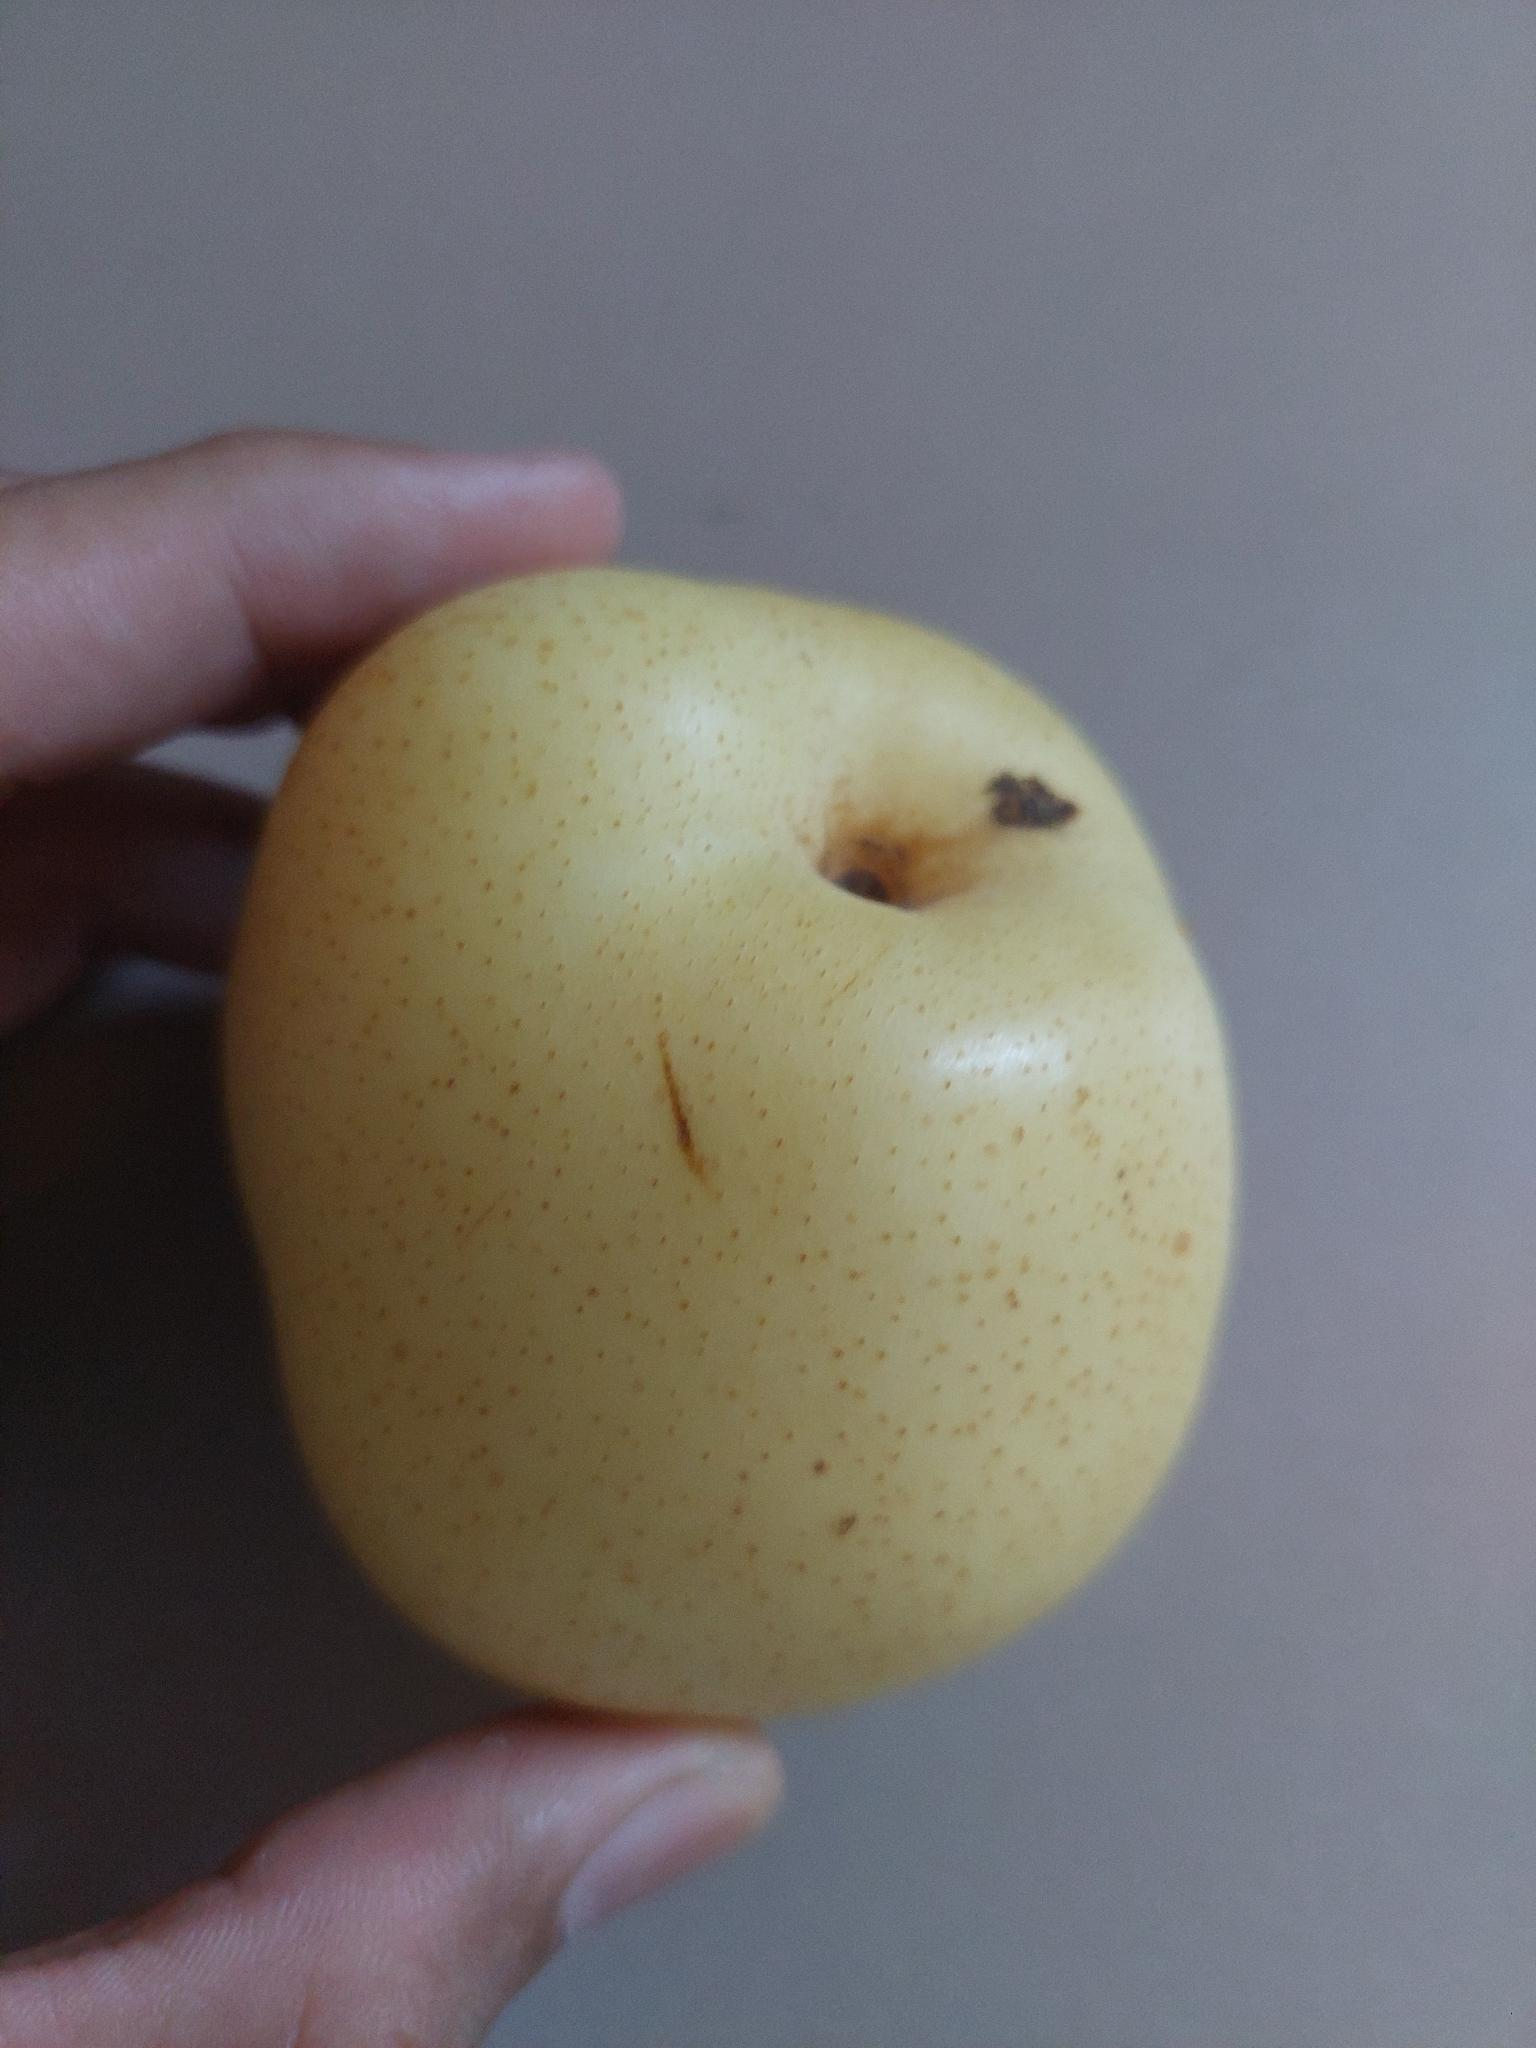Good Pear: (203, 558, 1249, 1729)
